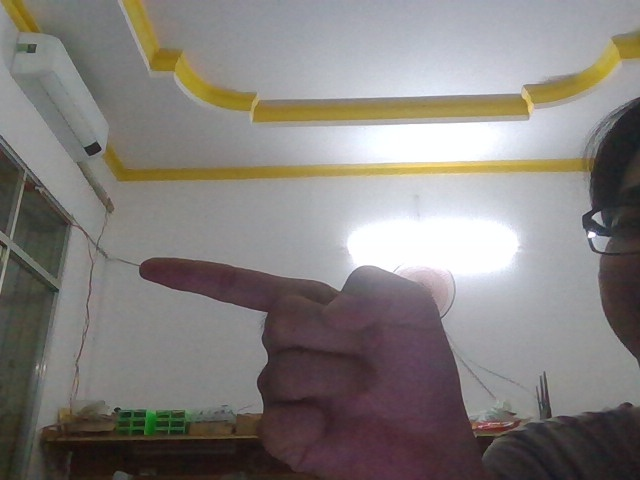turn_right: (119, 241, 492, 480)
